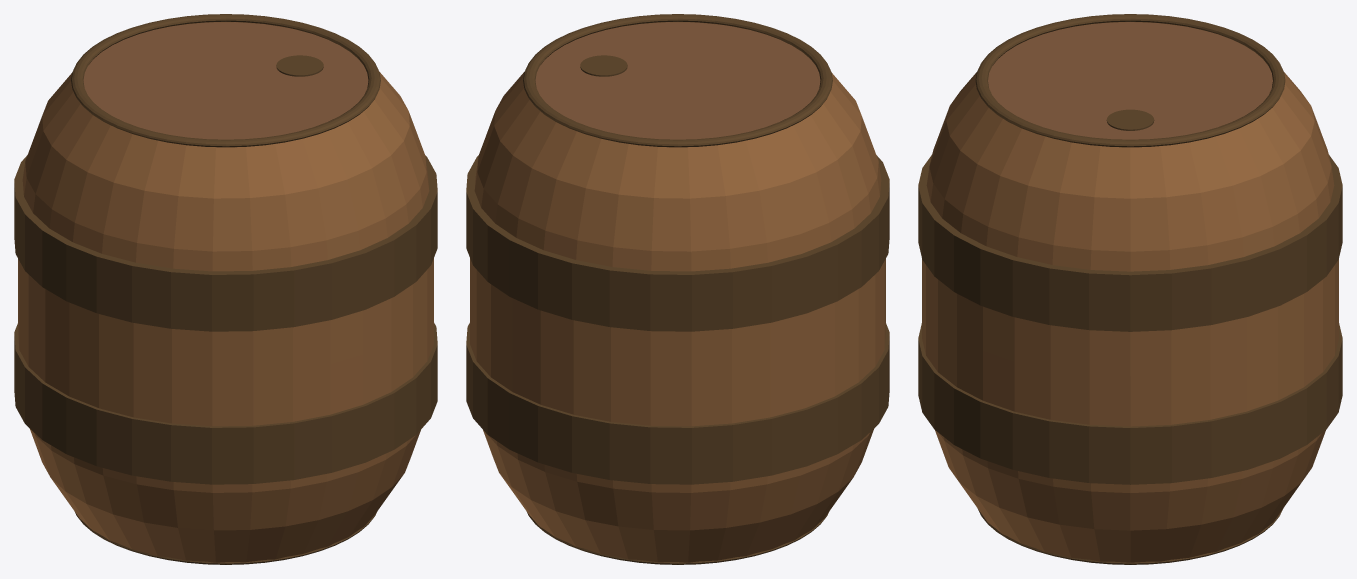
Rendered from Barrel.fbx.
The picture shows the model from 3 angles, left to right: view 1: azimuth 30°, elevation 25°; view 2: azimuth 150°, elevation 25°; view 3: azimuth 270°, elevation 25°; orthographic projection.
Parts seen in each view (by area): view 1: Cylinder; view 2: Cylinder; view 3: Cylinder.
Boxes of the visible parts, bbox=[...] form: Cylinder: bbox=[14, 14, 437, 564]; Cylinder: bbox=[466, 14, 889, 564]; Cylinder: bbox=[918, 14, 1342, 564].
Size of the model in its own units: 249 by 274 by 249.
